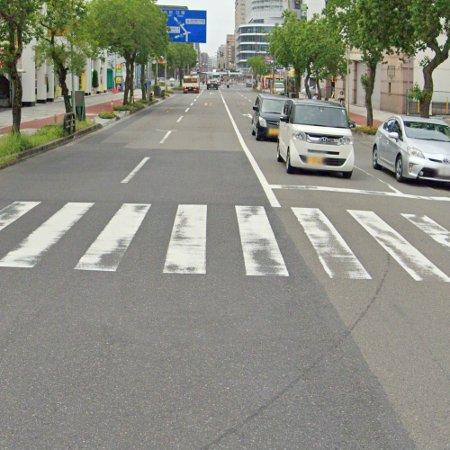crosswalks: (0, 195, 450, 289)
